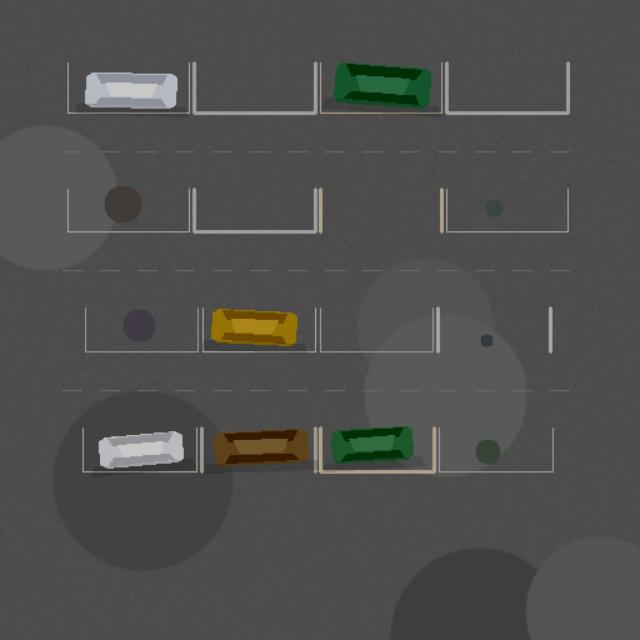space-empty: (194, 63, 315, 113), (446, 63, 567, 113), (67, 189, 189, 231), (194, 189, 315, 231), (320, 189, 441, 231), (446, 189, 567, 231), (320, 307, 433, 351), (437, 307, 550, 351), (439, 427, 552, 471), (85, 307, 197, 351)
space-occupied: (67, 63, 189, 113), (320, 63, 441, 113), (82, 427, 196, 471), (201, 427, 315, 471), (320, 427, 434, 471), (203, 307, 315, 351)
